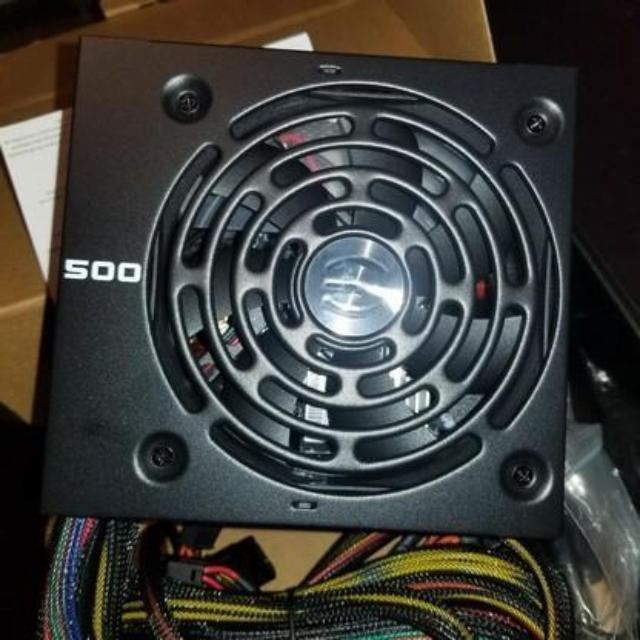PSU: (29, 25, 577, 553)
